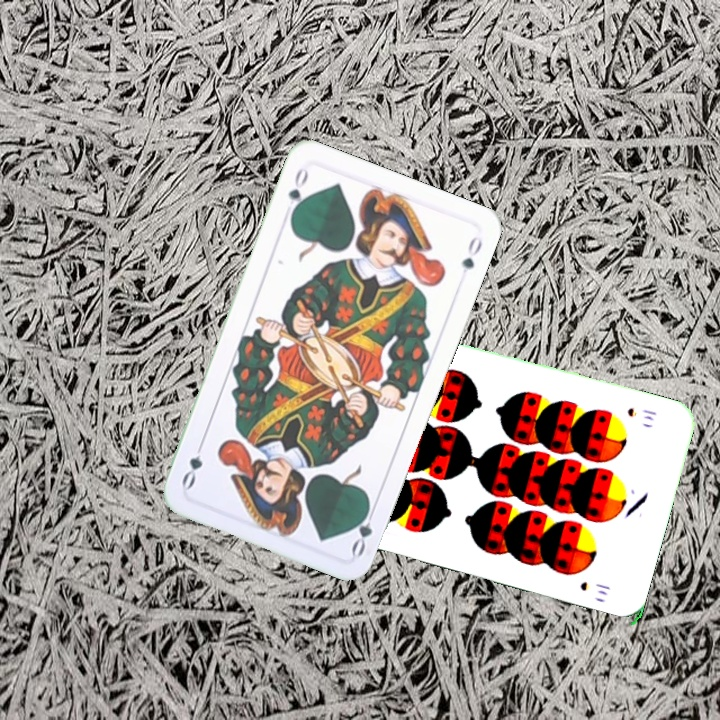GO: (347, 499, 379, 559), (284, 164, 311, 221)
S10: (623, 403, 660, 424)
